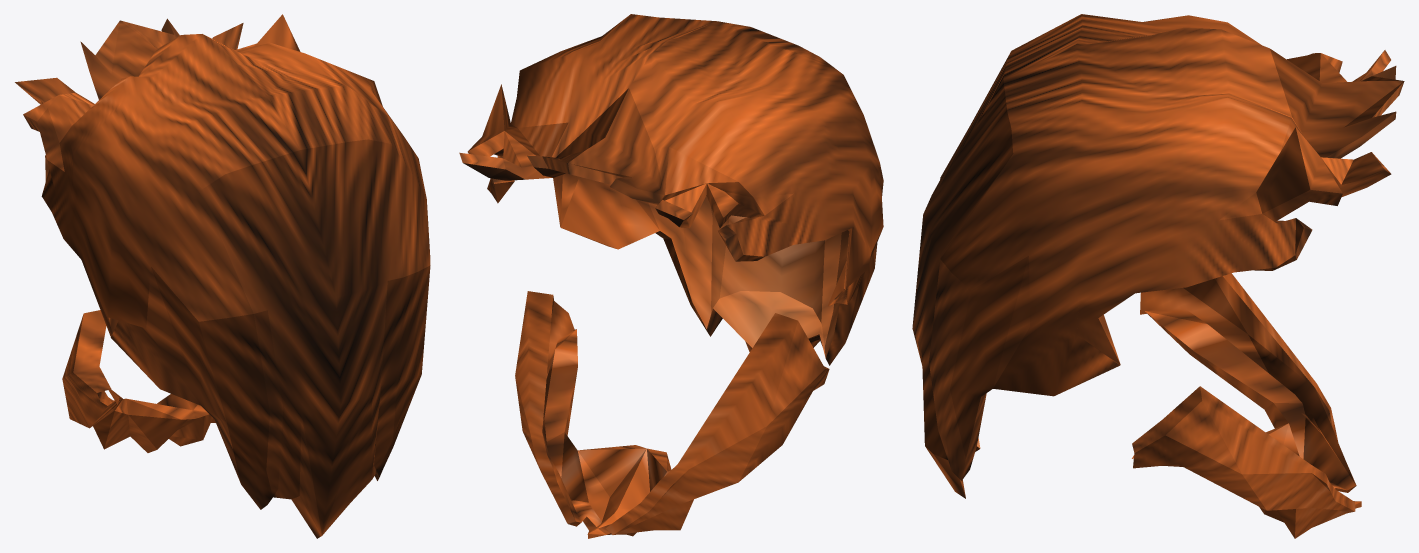
3 renders of one model, left to right at view 1: azimuth 30°, elevation 25°; view 2: azimuth 150°, elevation 25°; view 3: azimuth 270°, elevation 25°, orthographic. The views are drawn at different scales.
Visible parts, largest first — view 1: geometry_0; view 2: geometry_0; view 3: geometry_0.
Part boxes in pixels (x1,y1,x2,y2): geometry_0: (15,14,430,538); geometry_0: (459,14,883,538); geometry_0: (912,14,1404,538).
Size of the model in its own units: 0.7953 by 1.06 by 0.9519.
1 material, 1 textured.
